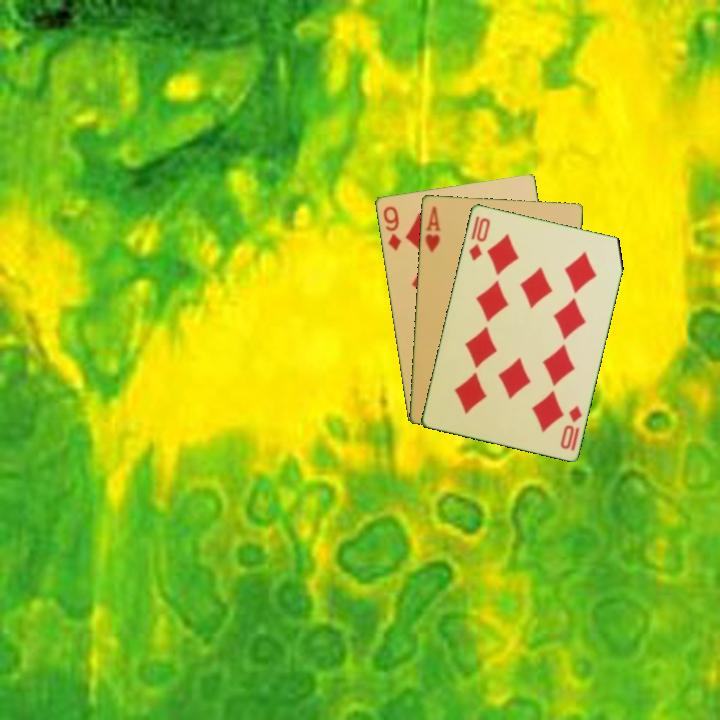10d: (556, 401, 585, 452), (465, 214, 493, 264)
9d: (379, 202, 404, 253)
Ah: (421, 202, 444, 255)
